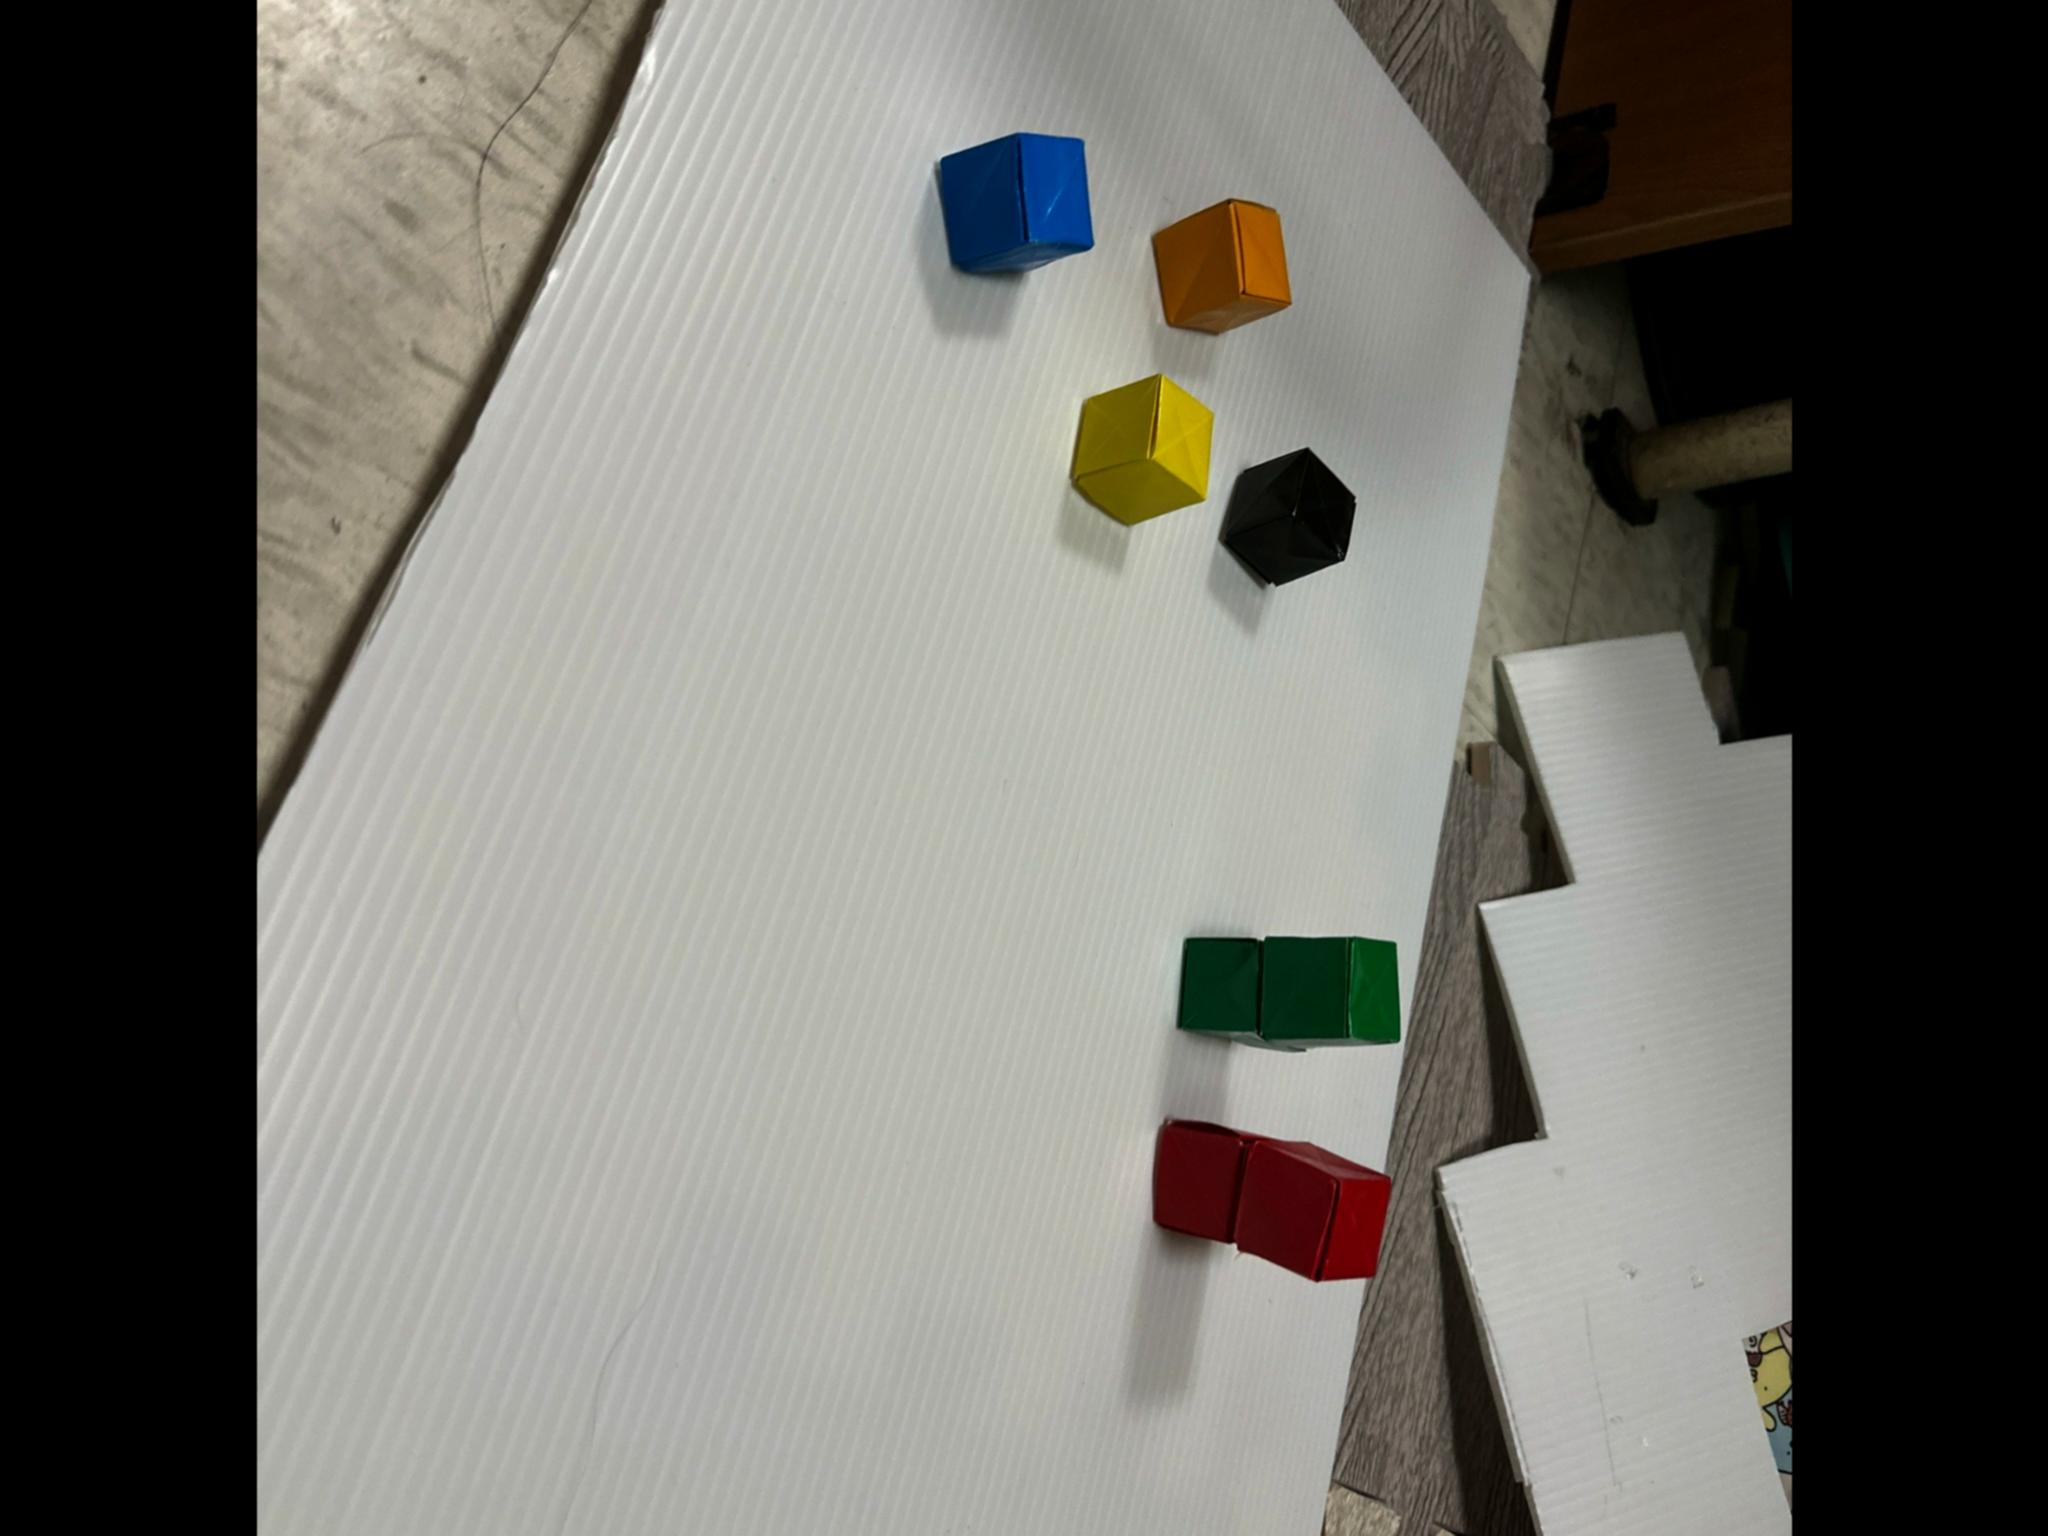cube: (1234, 1137, 1388, 1279), (940, 132, 1092, 273), (1072, 374, 1211, 526), (1153, 200, 1290, 332), (1222, 449, 1353, 586), (1256, 937, 1400, 1047), (1179, 937, 1306, 1052), (1153, 1121, 1253, 1242)
